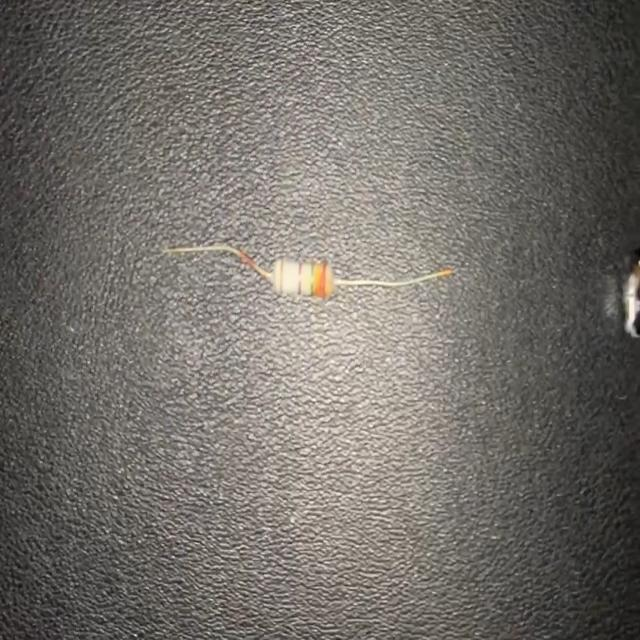burnt: (308, 256, 332, 300)
resistor: (161, 233, 454, 307)
rust: (235, 242, 255, 275), (436, 260, 452, 283)
